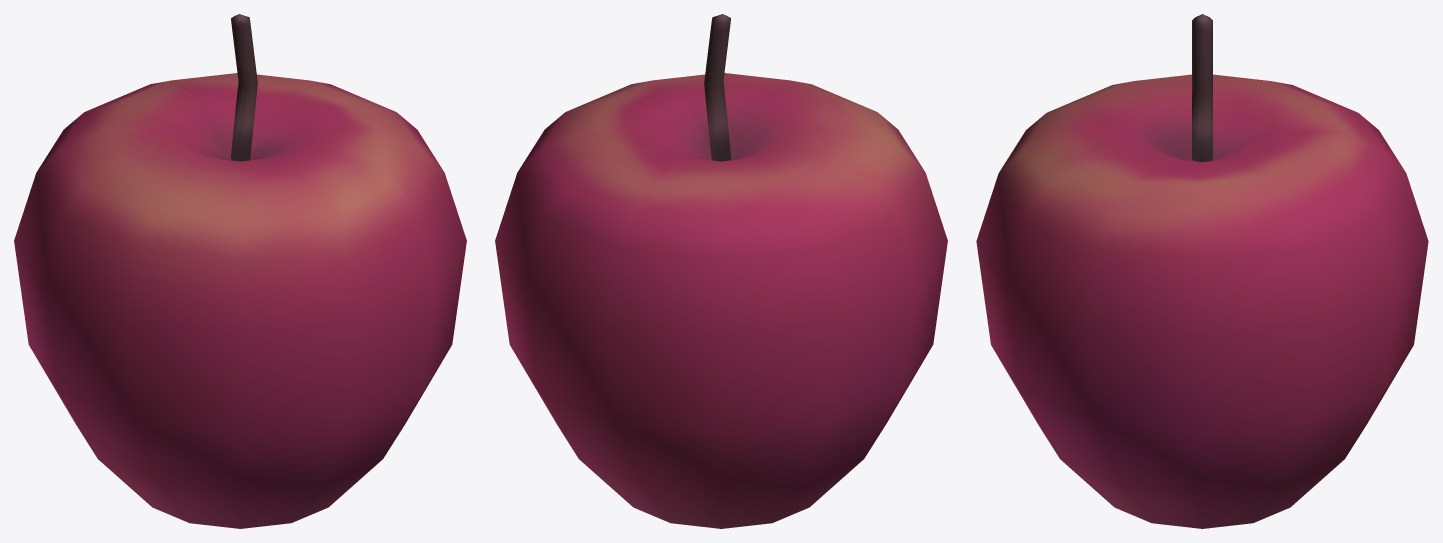
Rendered from Apple.fbx.
3 renders of one model, left to right at view 1: azimuth 30°, elevation 25°; view 2: azimuth 150°, elevation 25°; view 3: azimuth 270°, elevation 25°, orthographic.
Visible parts, largest first — view 1: link_V001_004:mesh_apple; view 2: link_V001_004:mesh_apple; view 3: link_V001_004:mesh_apple.
Part boxes in pixels (bbox=[...]): link_V001_004:mesh_apple: bbox=[14, 14, 466, 528]; link_V001_004:mesh_apple: bbox=[495, 14, 947, 528]; link_V001_004:mesh_apple: bbox=[976, 14, 1428, 528].
Bounding box in the file's own units: 11.53 × 13.63 × 11.53.
1 material, 1 textured.
